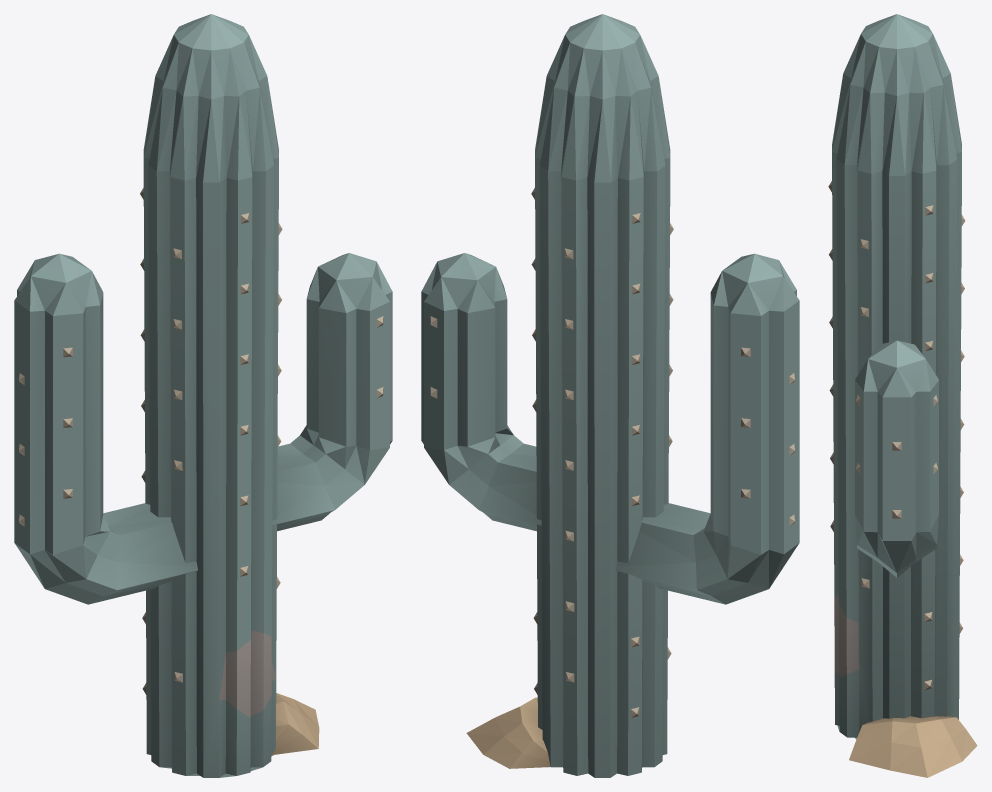
The model's file is saguaro.glb.
The picture shows the model from 3 angles, left to right: view 1: azimuth 30°, elevation 25°; view 2: azimuth 150°, elevation 25°; view 3: azimuth 270°, elevation 25°; orthographic projection. The views are drawn at different scales.
Parts seen in each view (by area): view 1: saguaro; view 2: saguaro; view 3: saguaro.
Part boxes in pixels (x1,y1,x2,y2): saguaro: (14, 14, 392, 777); saguaro: (421, 14, 799, 777); saguaro: (828, 14, 977, 777).
Size of the model in its own units: 2.62 by 5 by 0.9556.
